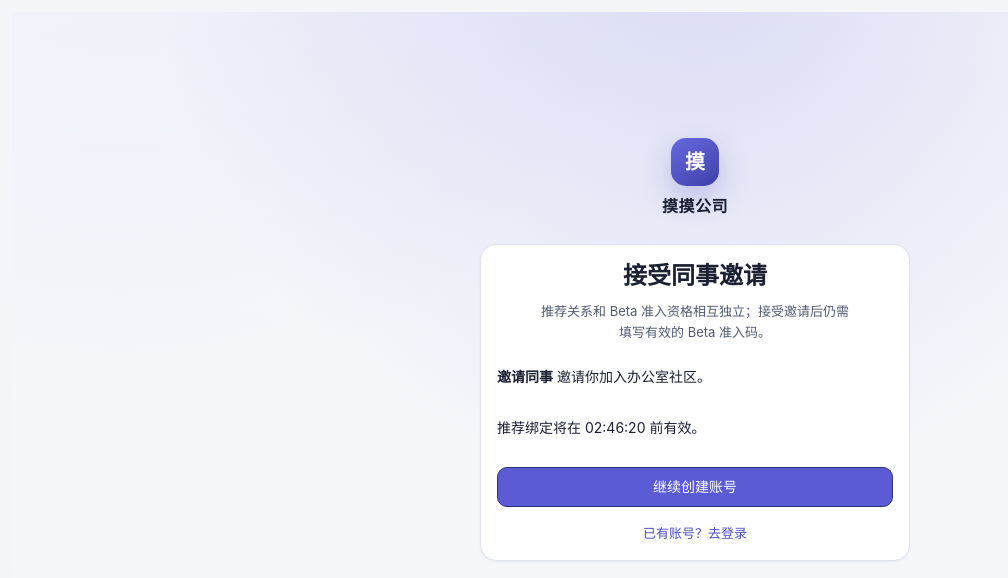
it: CommunityReferralAcceptPage › previews the share code and continues with an opaque binding token
The width and height of the screenshot is (1008, 578).
Click the button "继续创建账号" at (695, 487), box [497,467,893,507]
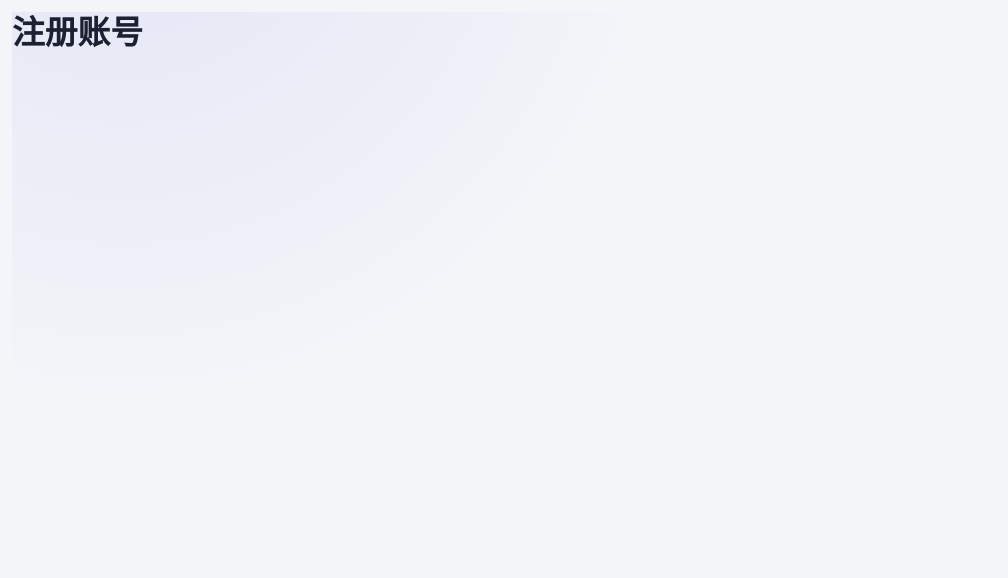
expect the heading "注册账号" is shown: met, box [12,12,143,52]
